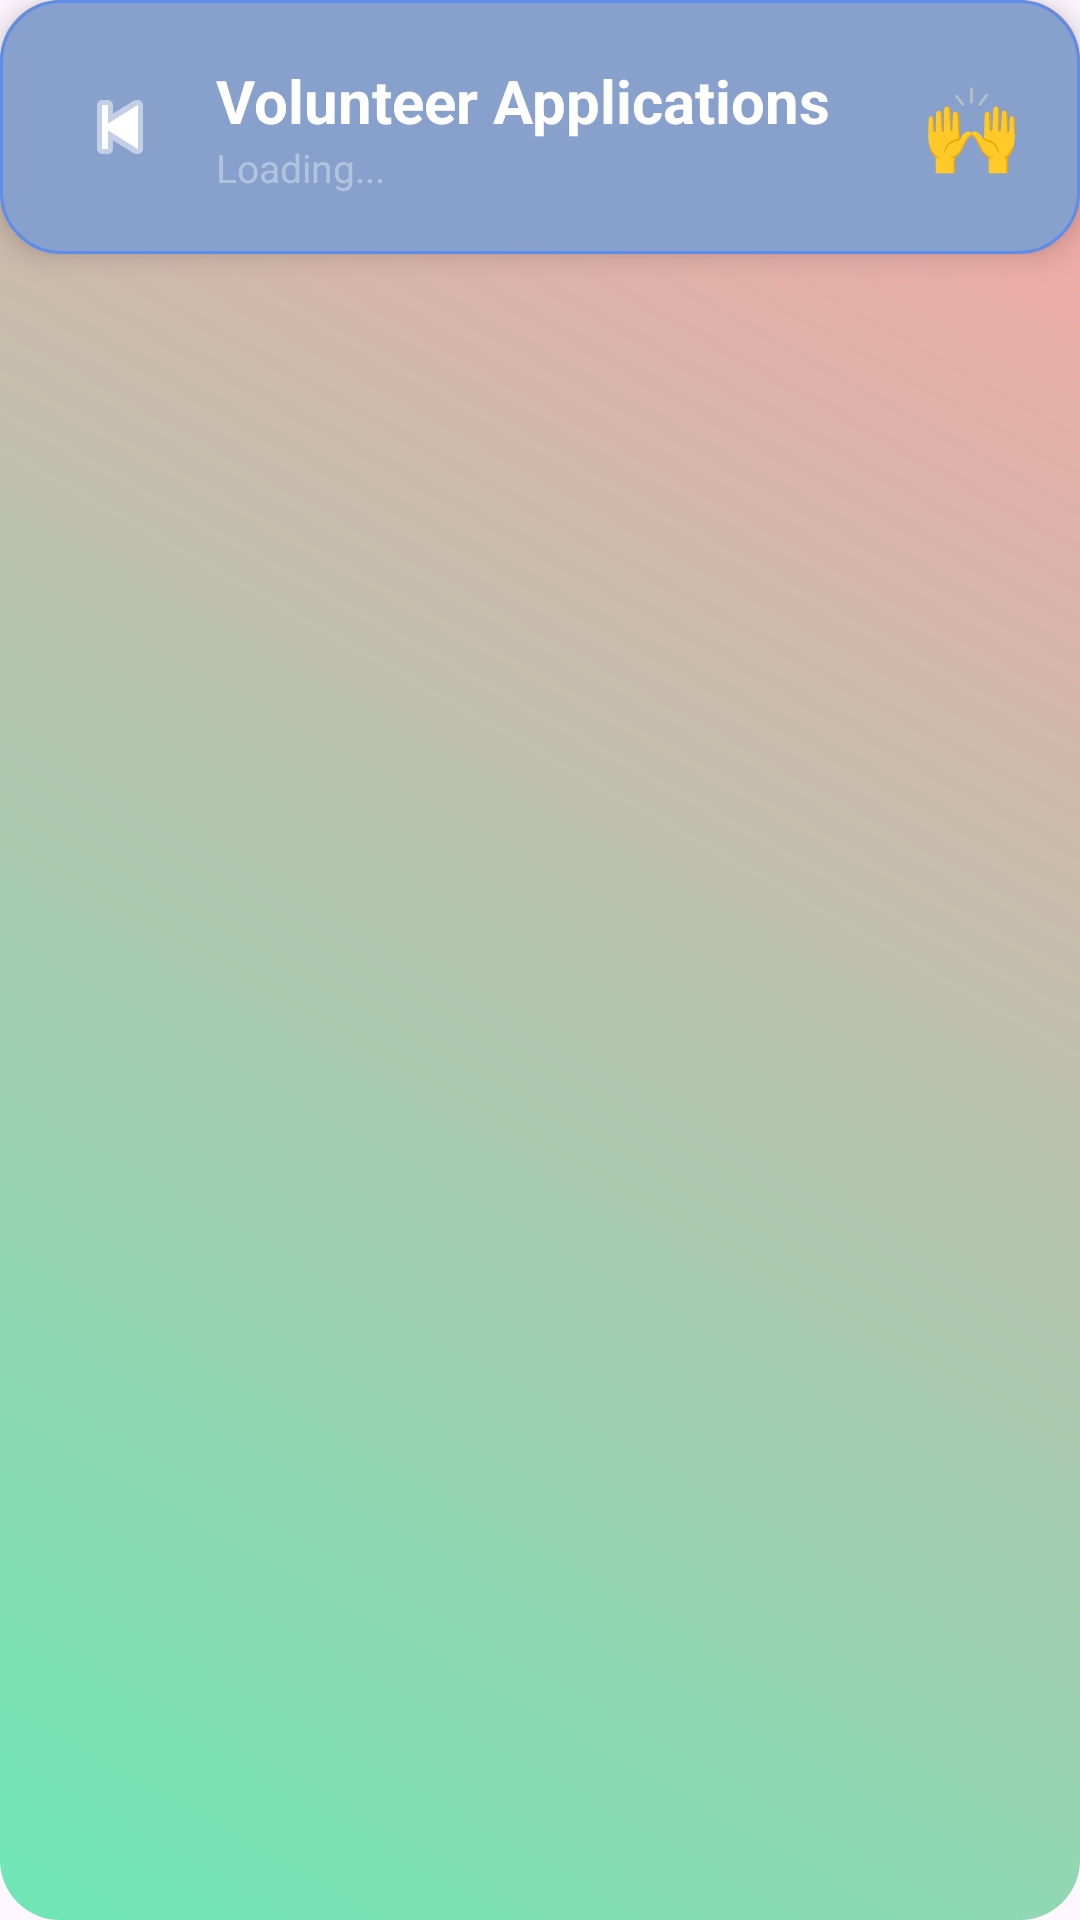

Locate icon controls on the screen. Image size 1080x1920, boxes as [x1, y1, x2, y2].
previous: [97, 100, 143, 154]
